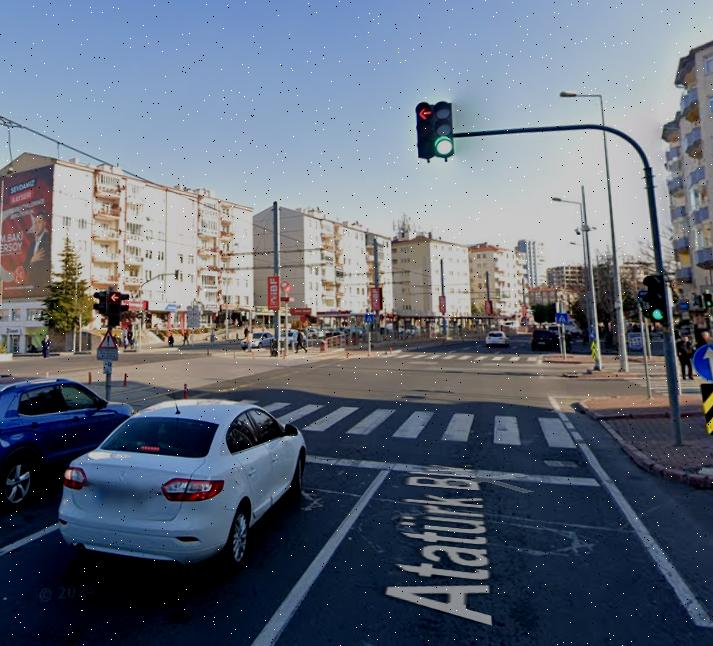greenlight: (641, 275, 668, 321), (433, 101, 454, 157)
redlight: (106, 289, 122, 317)
